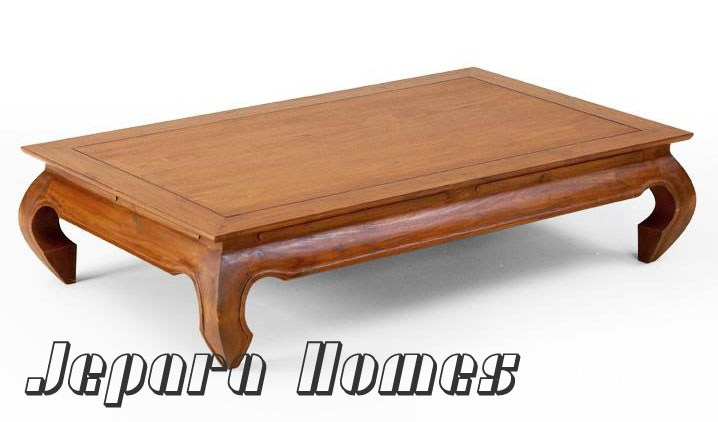Carving Table: (14, 72, 690, 354)
